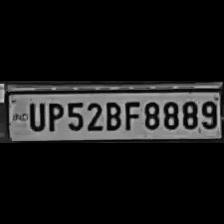2: (84, 100, 102, 132)
5: (64, 98, 84, 132)
8: (140, 97, 160, 131), (160, 97, 180, 130), (180, 97, 198, 130)
9: (198, 97, 218, 129)
B: (102, 98, 122, 132)
F: (122, 98, 139, 132)
P: (44, 100, 62, 132)
U: (23, 100, 44, 132)
